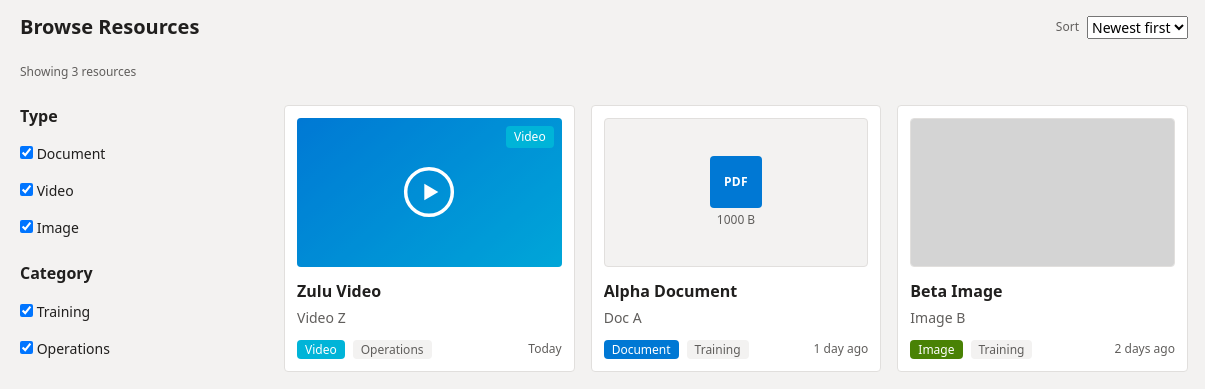
Scenario: BrowsePage › filters by type checkbox
The image size is (1205, 389).
Expected: the text "Showing 3 resources" is shown, [20,63,136,80]
Click the checkbox labelled "Video" at (26, 190), box [20,183,33,196]
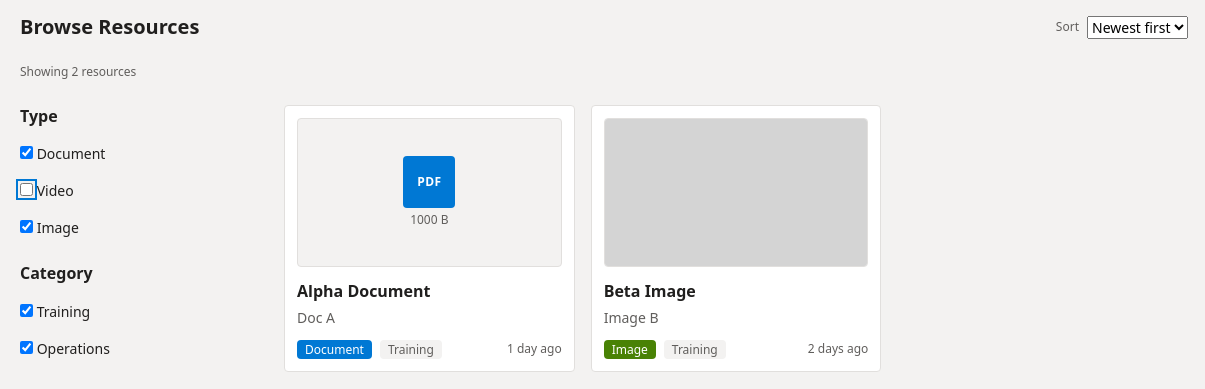
Result: the link "Zulu Video" is gone
Result: the text "Showing 2 resources" is shown at [20,63,136,80]
